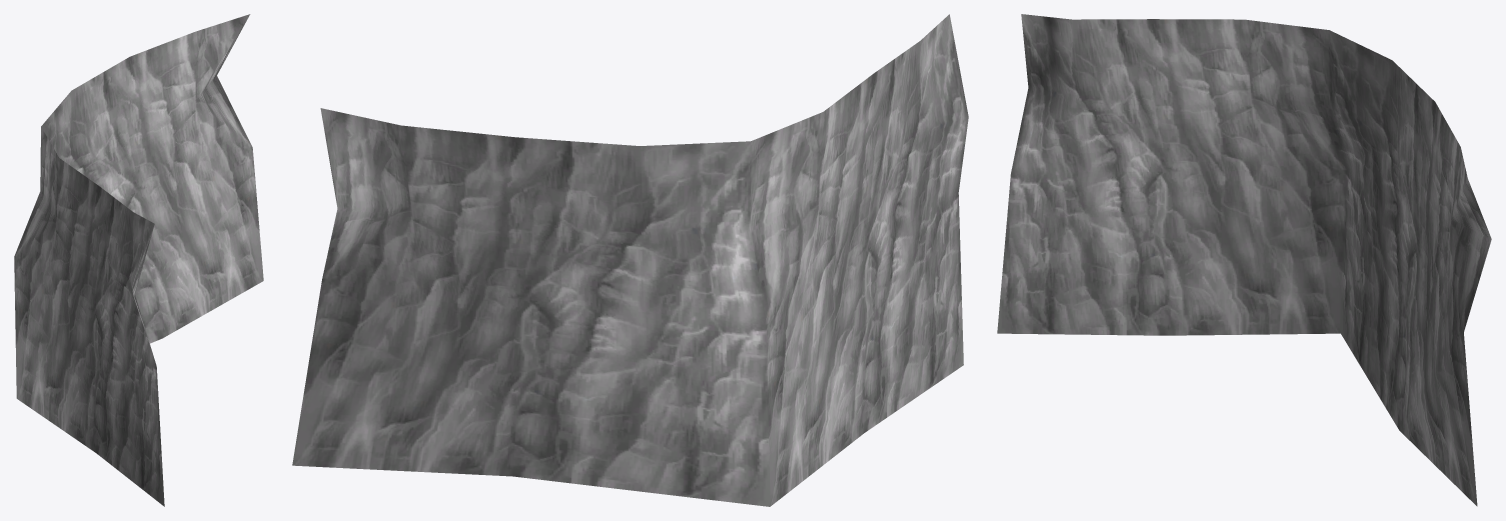
File: SWORDLIGHT20_PS-AREA03_156.fbx
3 views of the same model, side by side, from view 1: azimuth 30°, elevation 25°; view 2: azimuth 150°, elevation 25°; view 3: azimuth 270°, elevation 25° (orthographic). The views are drawn at different scales.
Parts seen in each view (by area): view 1: SWORDLIGHT20_PS-AREA03_156; view 2: SWORDLIGHT20_PS-AREA03_156; view 3: SWORDLIGHT20_PS-AREA03_156.
Boxes of the visible parts, bbox=[...] form: SWORDLIGHT20_PS-AREA03_156: bbox=[14, 14, 263, 506]; SWORDLIGHT20_PS-AREA03_156: bbox=[292, 14, 968, 506]; SWORDLIGHT20_PS-AREA03_156: bbox=[997, 14, 1491, 506].
Size of the model in its own units: 63368 by 51637 by 72340.
1 material, 1 textured.
